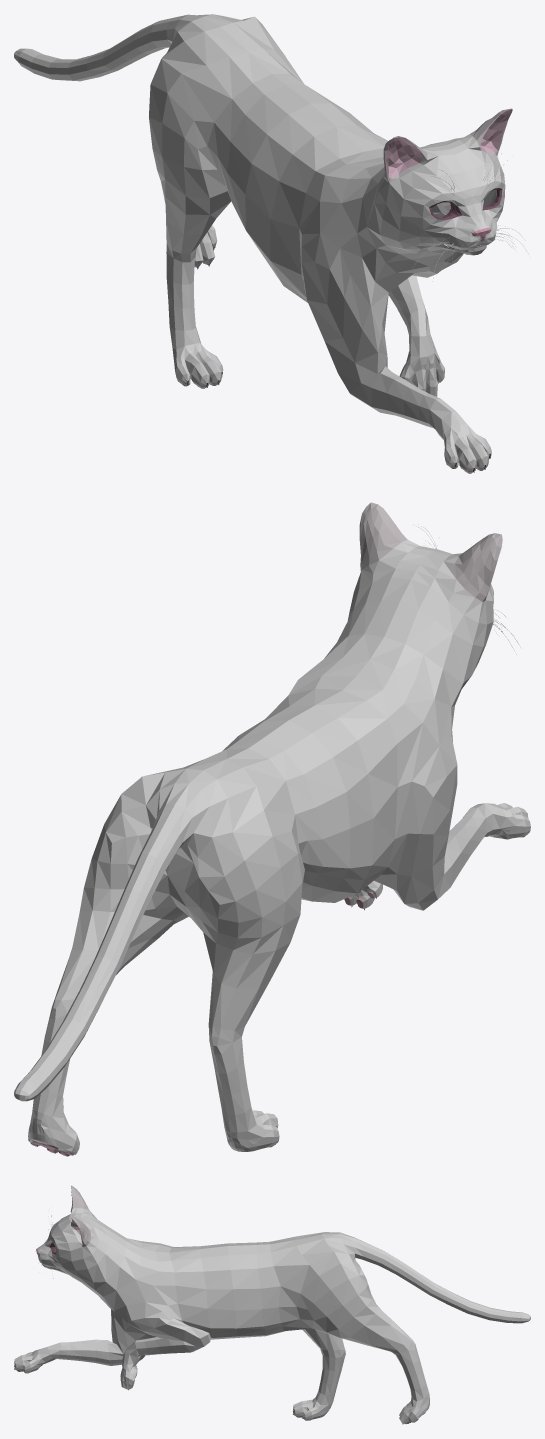
File: Run_F_02.glb
The picture shows the model from 3 angles, top to bottom: view 1: azimuth 30°, elevation 25°; view 2: azimuth 150°, elevation 25°; view 3: azimuth 270°, elevation 25°; orthographic projection. The views are drawn at different scales.
Parts seen in each view (by area): view 1: Run_F_02; view 2: Run_F_02; view 3: Run_F_02.
Boxes of the visible parts, x1,y1,x2,y2 form: Run_F_02: (14,14,528,473); Run_F_02: (14,502,530,1156); Run_F_02: (14,1185,530,1424).
Size of the model in its own units: 0.156 by 0.3743 by 0.7748.
1 material, 1 textured.
